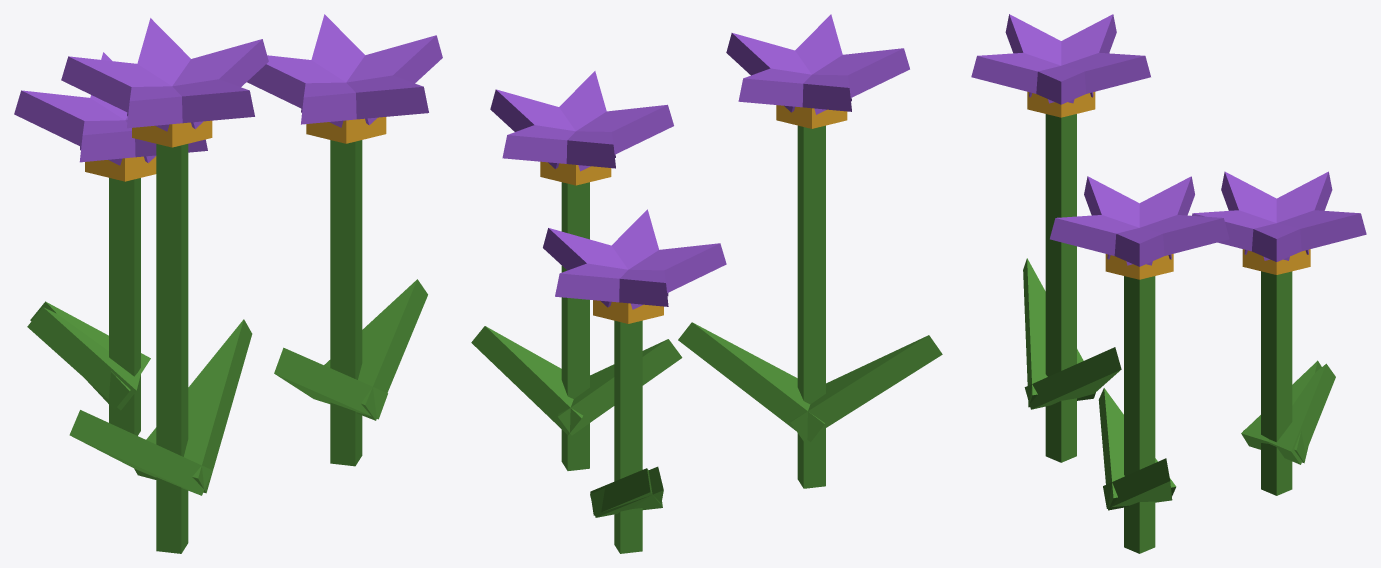
The model's file is flower_purpleB.glb.
3 views of the same model, side by side, from view 1: azimuth 30°, elevation 25°; view 2: azimuth 150°, elevation 25°; view 3: azimuth 270°, elevation 25° (orthographic). The views are drawn at different scales.
Visible parts, largest first — view 1: flower_purpleB; view 2: flower_purpleB; view 3: flower_purpleB.
Part boxes in pixels (<box>): flower_purpleB: <box>14,14,442,553</box>; flower_purpleB: <box>471,14,942,553</box>; flower_purpleB: <box>971,14,1366,553</box>.
Bounding box in the file's own units: 0.2226 × 0.232 × 0.2019.
1 material, 1 textured.
